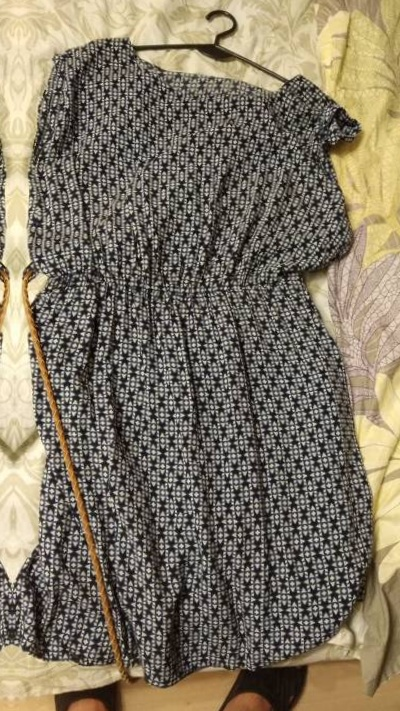Dress: (12, 27, 393, 695), (0, 23, 17, 691)
